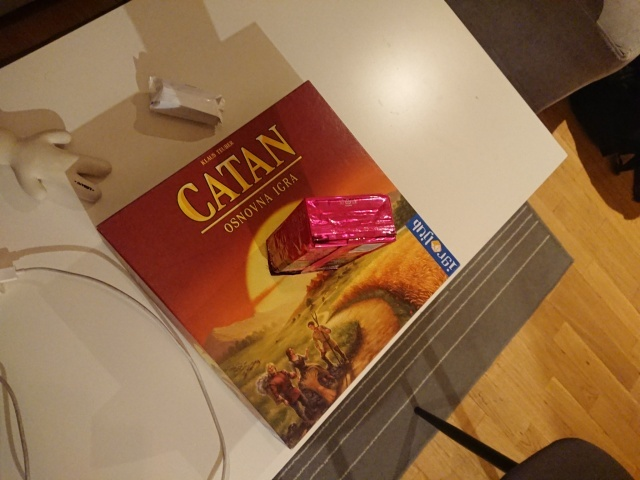Barcaffe Classic Original 225g: (263, 191, 400, 278)
